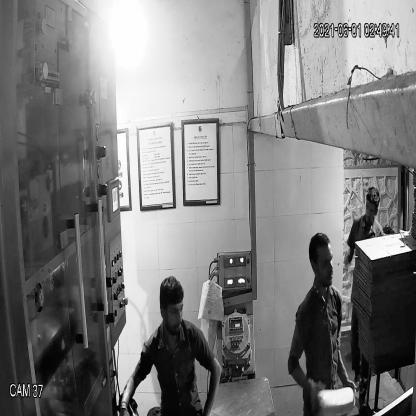no_goggles: (306, 254, 338, 276), (158, 299, 188, 322)
